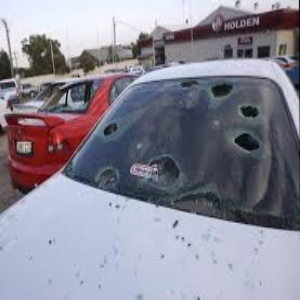rear_windshield_glass: (102, 92, 279, 205)
